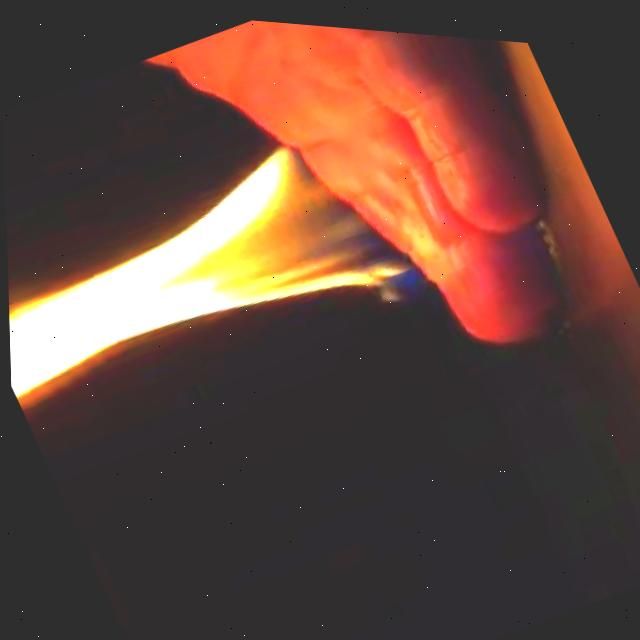Fire: (2, 86, 425, 460)
